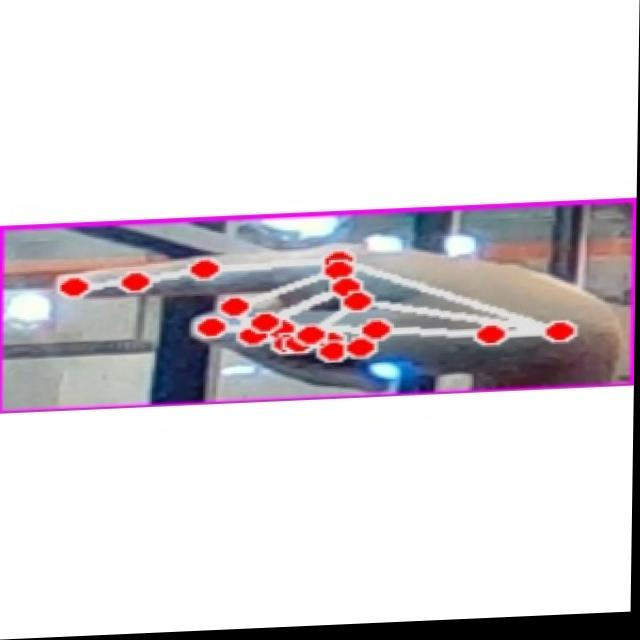G: (47, 227, 627, 398)
